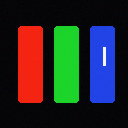4 line_v: (103, 47, 105, 65)
